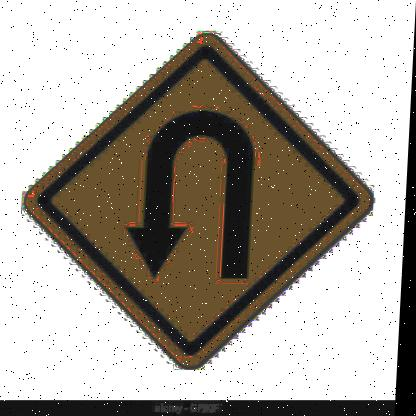U-turn: (17, 35, 385, 370)
